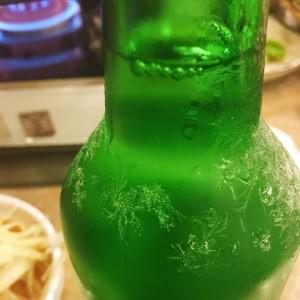soju: (59, 1, 299, 300)
